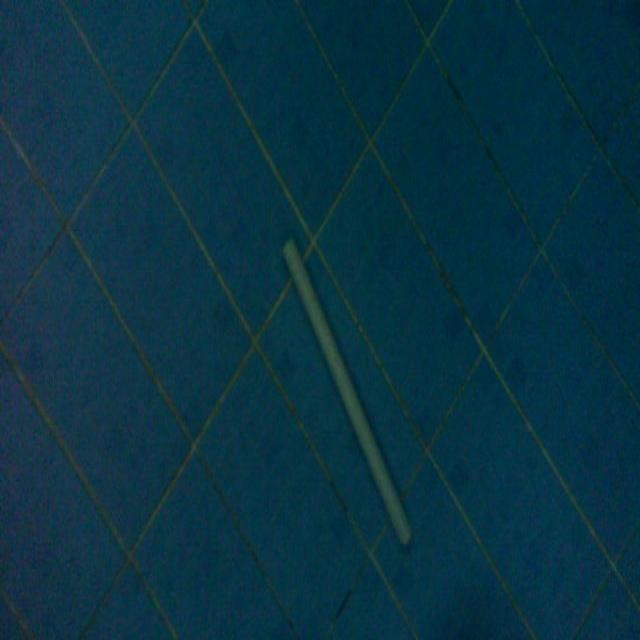Cube: (280, 231, 414, 548)
